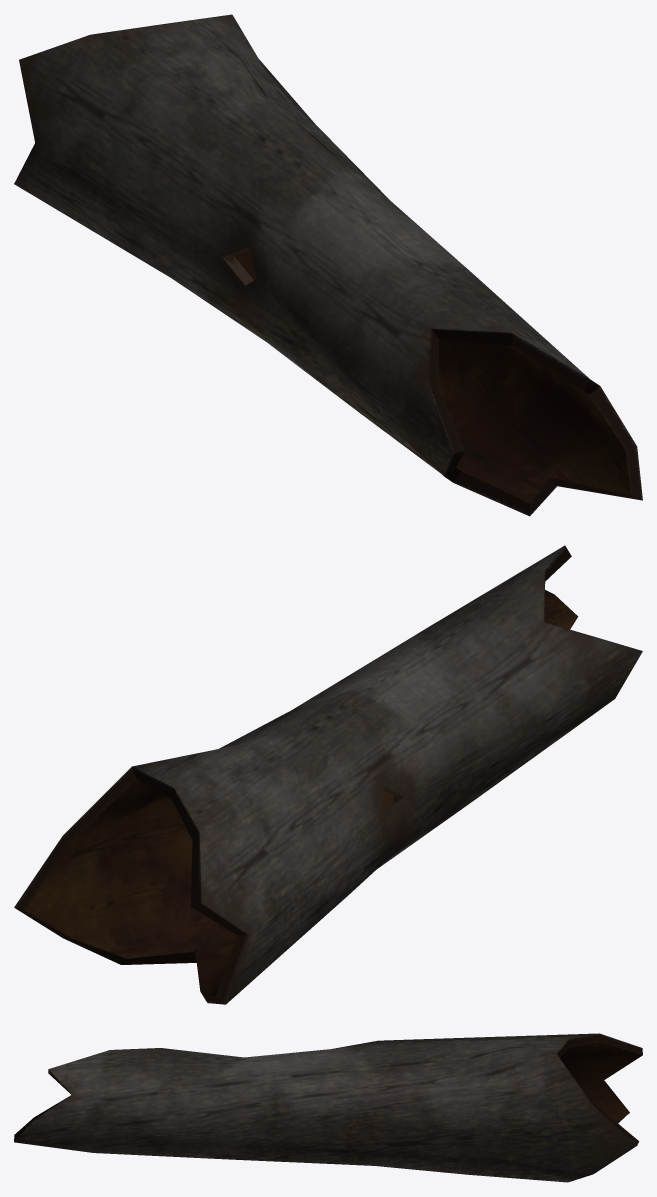
File: borken_tree_01.fbx
3 renders of one model, top to bottom at view 1: azimuth 30°, elevation 25°; view 2: azimuth 150°, elevation 25°; view 3: azimuth 270°, elevation 25°, orthographic. The views are drawn at different scales.
Parts seen in each view (by area): view 1: broken_tree_01; view 2: broken_tree_01; view 3: broken_tree_01.
Part boxes in pixels (x1,y1,x2,y2): broken_tree_01: (14, 14, 642, 516); broken_tree_01: (14, 545, 642, 1004); broken_tree_01: (14, 1033, 642, 1182).
Size of the model in its own units: 0.6518 by 0.5817 by 2.55.
1 material, 1 textured.
